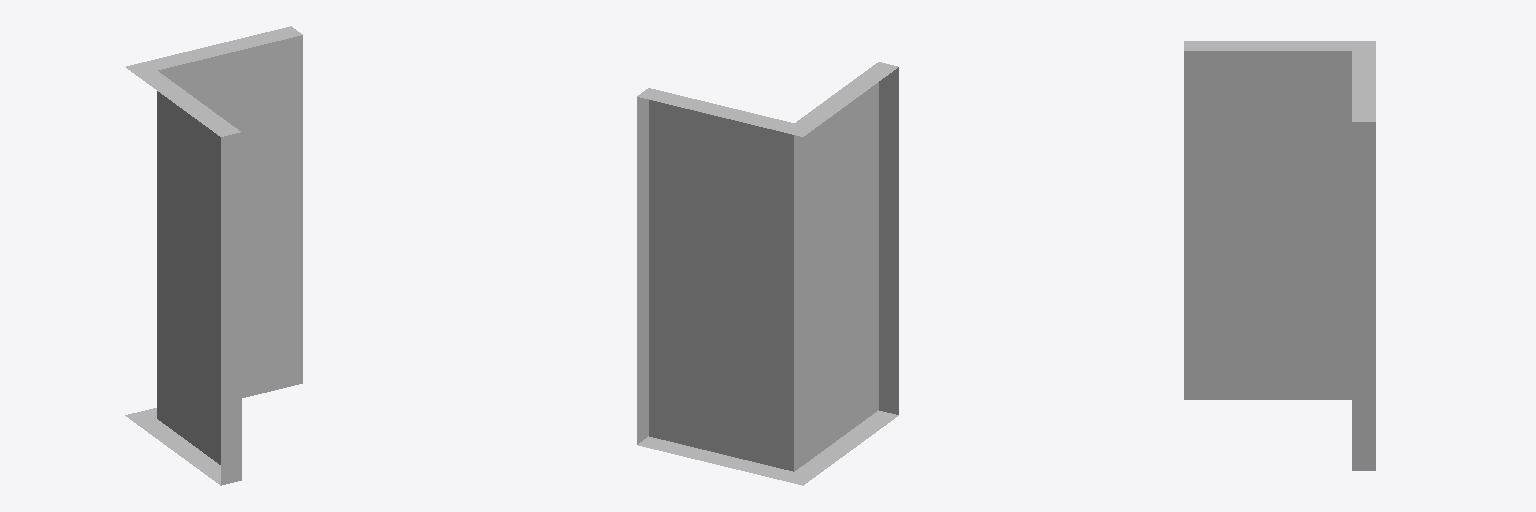
File: wall_modular_plain_kitchen_corner_outer_B.obj
3 renders of one model, left to right at view 1: azimuth 30°, elevation 25°; view 2: azimuth 150°, elevation 25°; view 3: azimuth 270°, elevation 25°, orthographic.
Parts seen in each view (by area): view 1: wall_modular_plain_kitchen_corner_outer_B; view 2: wall_modular_plain_kitchen_corner_outer_B; view 3: wall_modular_plain_kitchen_corner_outer_B.
Part boxes in pixels (bbox=[...]): wall_modular_plain_kitchen_corner_outer_B: bbox=[125, 26, 302, 485]; wall_modular_plain_kitchen_corner_outer_B: bbox=[637, 62, 898, 485]; wall_modular_plain_kitchen_corner_outer_B: bbox=[1184, 41, 1375, 470].
Bounding box in the file's own units: 2 × 4 × 2.